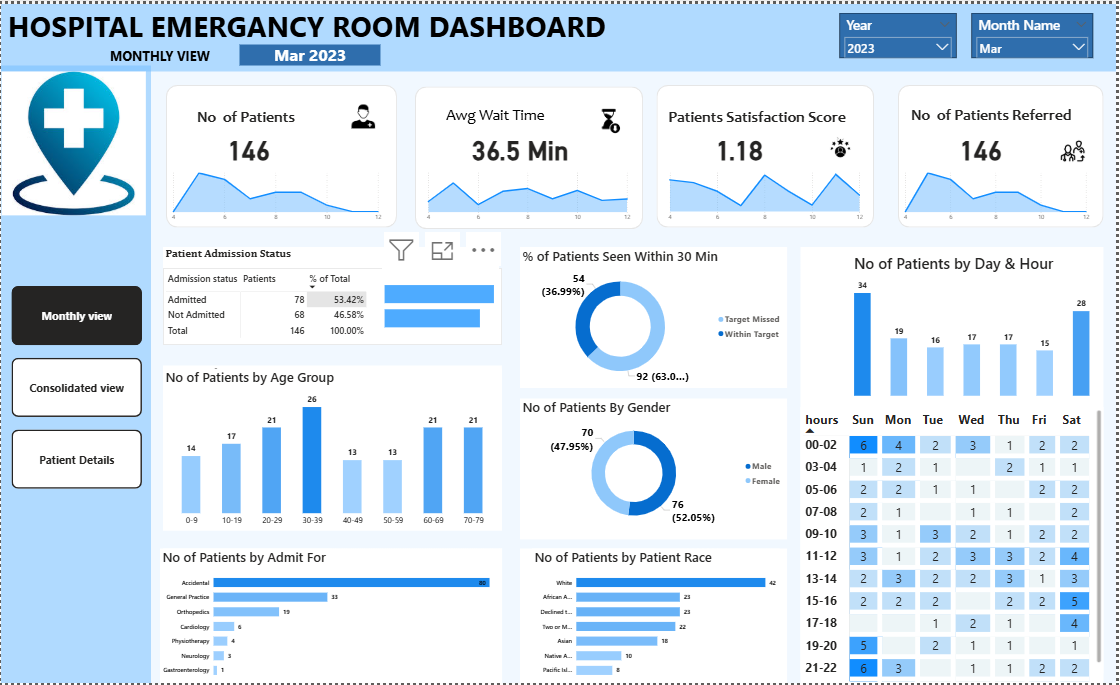

The dashboard page shown, as its layout file describes it:
{"tool":"powerbi","page":{"name":"Monthly view","canvas":[2300,1400],"ordinal":0},"visuals":[{"type":"shape","box":[0,126.8,309.3,1274.3],"z":0},{"type":"textbox","box":[1070.1,832,550.5,272.2],"z":1000},{"type":"textbox","box":[1070.1,501,550.5,290.7],"z":2000},{"type":"textbox","title":"Patient Admission Status","box":[334,745.4,699,340.2],"z":3000},{"type":"textbox","title":"Patient Admission Status","box":[334,501,692.8,197.9],"z":4000},{"type":"shape","box":[1351.6,167,448.5,293.8],"z":5000},{"type":"shape","box":[340.2,167,476.3,293.8],"z":6000},{"type":"shape","box":[854.7,170.1,470.1,293.8],"z":7000},{"type":"shape","box":[0,0,2301.1,139.2],"z":8000},{"type":"textbox","box":[9.3,0,1611.4,92.8],"z":9000},{"type":"textbox","box":[912.4,204.1,238.1,52.6],"z":10000},{"type":"card","fields":{"Values":["Hospital ER_Data.No of Patients"]},"box":[442.3,256.7,136.1,77.3],"z":11000},{"type":"slicer","fields":{"Values":["Data Table.Year"]},"box":[1728.9,18.6,241.2,92.8],"z":12000},{"type":"slicer","fields":{"Values":["Data Table.Month Name"]},"box":[2001.1,18.6,250.5,92.8],"z":13000},{"type":"textbox","box":[219.6,83.5,222.7,55.7],"z":14000},{"type":"areaChart","fields":{"Category":["Data Table.Date.Variation.Date Hierarchy.Day"],"Y":["Hospital ER_Data.No of Patients"]},"box":[340.2,334,451.6,123.7],"z":15000},{"type":"card","fields":{"Values":["Min(Data Table.Month & Year)"]},"box":[491.8,83.5,290.7,43.3],"z":16000},{"type":"textbox","box":[399,207.2,238.1,49.5],"z":17000},{"type":"card","fields":{"Values":["Hospital ER_Data.Awg Wait Time"]},"box":[965,256.7,210.3,77.3],"z":18000},{"type":"areaChart","fields":{"Category":["Data Table.Date.Variation.Date Hierarchy.Day"],"Y":["Avg(Hospital ER_Data.Patient Waittime)"]},"box":[866,334,439.2,123.7],"z":19000},{"type":"textbox","box":[1363.9,207.2,420.6,49.5],"z":20000},{"type":"card","fields":{"Values":["Hospital ER_Data.Satisfaction score"]},"box":[1453.6,256.7,136.1,77.3],"z":21000},{"type":"shape","box":[1849.5,167,423.7,293.8],"z":22000},{"type":"textbox","box":[1871.2,204.1,380.4,52.6],"z":23000},{"type":"card","fields":{"Values":["Hospital ER_Data.No of Patient Referred"]},"box":[1951.6,256.7,136.1,77.3],"z":24000},{"type":"areaChart","fields":{"Category":["Data Table.Date.Variation.Date Hierarchy.Day"],"Y":["Hospital ER_Data.Satisfaction score"]},"box":[1363.9,334,420.6,123.7],"z":25000},{"type":"areaChart","fields":{"Category":["Data Table.Date.Variation.Date Hierarchy.Day"],"Y":["Hospital ER_Data.No of Patient Referred"]},"box":[1849.5,334,402.1,123.7],"z":26000},{"type":"pivotTable","fields":{"Rows":["Hospital ER_Data.Admission status"],"Values":["Hospital ER_Data.No of Patients1","Hospital ER_Data.No of Patients"]},"box":[334,544.3,699,157.7],"z":27000},{"type":"barChart","fields":{"Category":["Hospital ER_Data.Admission status"],"Y":["Hospital ER_Data.No of Patients"]},"box":[785.6,541.2,241.2,157.7],"z":28000},{"type":"clusteredColumnChart","fields":{"Category":["Hospital ER_Data.Age Group"],"Y":["Hospital ER_Data.No of Patients"]},"box":[334,751.6,699,334],"z":29000},{"type":"textbox","box":[334,1122.7,699,256.7],"z":30000},{"type":"clusteredBarChart","title":"No of Patients by Admit For","fields":{"Category":["Hospital ER_Data.Department Referral"],"Y":["Hospital ER_Data.No of Patients"]},"box":[327.8,1122.7,705.2,278.4],"z":31000},{"type":"donutChart","title":"% of Patients Seen Within 30 Min","fields":{"Category":["Hospital ER_Data.Waittime Status"],"Y":["Hospital ER_Data.No of Patients"]},"box":[1070.1,501,550.5,290.7],"z":32000},{"type":"donutChart","title":"No of Patients By Gender ","fields":{"Y":["Hospital ER_Data.No of Patients"],"Category":["Hospital ER_Data.Patient Gender"]},"box":[1070.1,813.4,550.5,272.2],"z":33000},{"type":"textbox","box":[1070.1,1122.7,550.5,278.4],"z":34000},{"type":"clusteredBarChart","fields":{"Y":["Hospital ER_Data.No of Patients"],"Category":["Hospital ER_Data.Patient Race"]},"box":[1094.9,1122.7,510.3,278.4],"z":35000},{"type":"textbox","box":[1648.5,501,624.8,878.4],"z":36000},{"type":"pivotTable","fields":{"Rows":["Hospital ER_Data.Admission Time Interval"],"Values":["Hospital ER_Data.No of Patients"],"Columns":["Data Table.Day Name"]},"box":[1648.5,832,624.8,569.1],"z":37000},{"type":"clusteredColumnChart","title":"No of Patients by Day & Hour","fields":{"Category":["Data Table.Day Name"],"Y":["Hospital ER_Data.No of Patients"]},"box":[1753.6,513.4,497.9,300],"z":38000},{"type":"image","box":[0,139.2,300,296.9],"z":39000},{"type":"pageNavigator","box":[21.6,581.5,269.1,420.6],"z":40000},{"type":"image","box":[2168.1,272.2,83.5,61.9],"z":41000},{"type":"image","box":[1688.7,256.7,83.5,77.3],"z":42000},{"type":"image","box":[1231,210.3,52.6,61.9],"z":43000},{"type":"image","box":[711.4,207.2,71.1,49.5],"z":44000}]}

Visuals, with their boxes in screenshot pixels (x1, y1, x2, y2), scaled from the page's 2300x1400 canvas onto the 1120x685 screenshot:
shape: [0, 62, 151, 684]
textbox: [521, 407, 789, 540]
textbox: [521, 245, 789, 387]
"Patient Admission Status" textbox: [163, 365, 503, 531]
"Patient Admission Status" textbox: [163, 245, 500, 342]
shape: [658, 82, 877, 225]
shape: [166, 82, 398, 225]
shape: [416, 83, 645, 227]
shape: [0, 0, 1119, 68]
textbox: [5, 0, 789, 45]
textbox: [444, 100, 560, 126]
card - Hospital ER_Data.No of Patients: [215, 126, 282, 163]
slicer - Data Table.Year: [842, 9, 959, 55]
slicer - Data Table.Month Name: [974, 9, 1096, 55]
textbox: [107, 41, 215, 68]
areaChart - Data Table.Date.Variation.Date Hierarchy.Day x Hospital ER_Data.No of Patients: [166, 163, 386, 224]
card - Min(Data Table.Month & Year): [239, 41, 381, 62]
textbox: [194, 101, 310, 126]
card - Hospital ER_Data.Awg Wait Time: [470, 126, 572, 163]
areaChart - Data Table.Date.Variation.Date Hierarchy.Day x Avg(Hospital ER_Data.Patient Waittime): [422, 163, 636, 224]
textbox: [664, 101, 869, 126]
card - Hospital ER_Data.Satisfaction score: [708, 126, 774, 163]
shape: [901, 82, 1107, 225]
textbox: [911, 100, 1096, 126]
card - Hospital ER_Data.No of Patient Referred: [950, 126, 1017, 163]
areaChart - Data Table.Date.Variation.Date Hierarchy.Day x Hospital ER_Data.Satisfaction score: [664, 163, 869, 224]
areaChart - Data Table.Date.Variation.Date Hierarchy.Day x Hospital ER_Data.No of Patient Referred: [901, 163, 1096, 224]
pivotTable - Hospital ER_Data.Admission status x Hospital ER_Data.No of Patients1: [163, 266, 503, 343]
barChart - Hospital ER_Data.Admission status x Hospital ER_Data.No of Patients: [383, 265, 500, 342]
clusteredColumnChart - Hospital ER_Data.Age Group x Hospital ER_Data.No of Patients: [163, 368, 503, 531]
textbox: [163, 549, 503, 675]
"No of Patients by Admit For" clusteredBarChart: [160, 549, 503, 684]
"% of Patients Seen Within 30 Min" donutChart: [521, 245, 789, 387]
"No of Patients By Gender " donutChart: [521, 398, 789, 531]
textbox: [521, 549, 789, 684]
clusteredBarChart - Hospital ER_Data.No of Patients x Hospital ER_Data.Patient Race: [533, 549, 782, 684]
textbox: [803, 245, 1107, 675]
pivotTable - Hospital ER_Data.Admission Time Interval x Hospital ER_Data.No of Patients: [803, 407, 1107, 684]
"No of Patients by Day & Hour" clusteredColumnChart: [854, 251, 1096, 398]
image: [0, 68, 146, 213]
pageNavigator: [11, 285, 142, 490]
image: [1056, 133, 1096, 163]
image: [822, 126, 863, 163]
image: [599, 103, 625, 133]
image: [346, 101, 381, 126]
